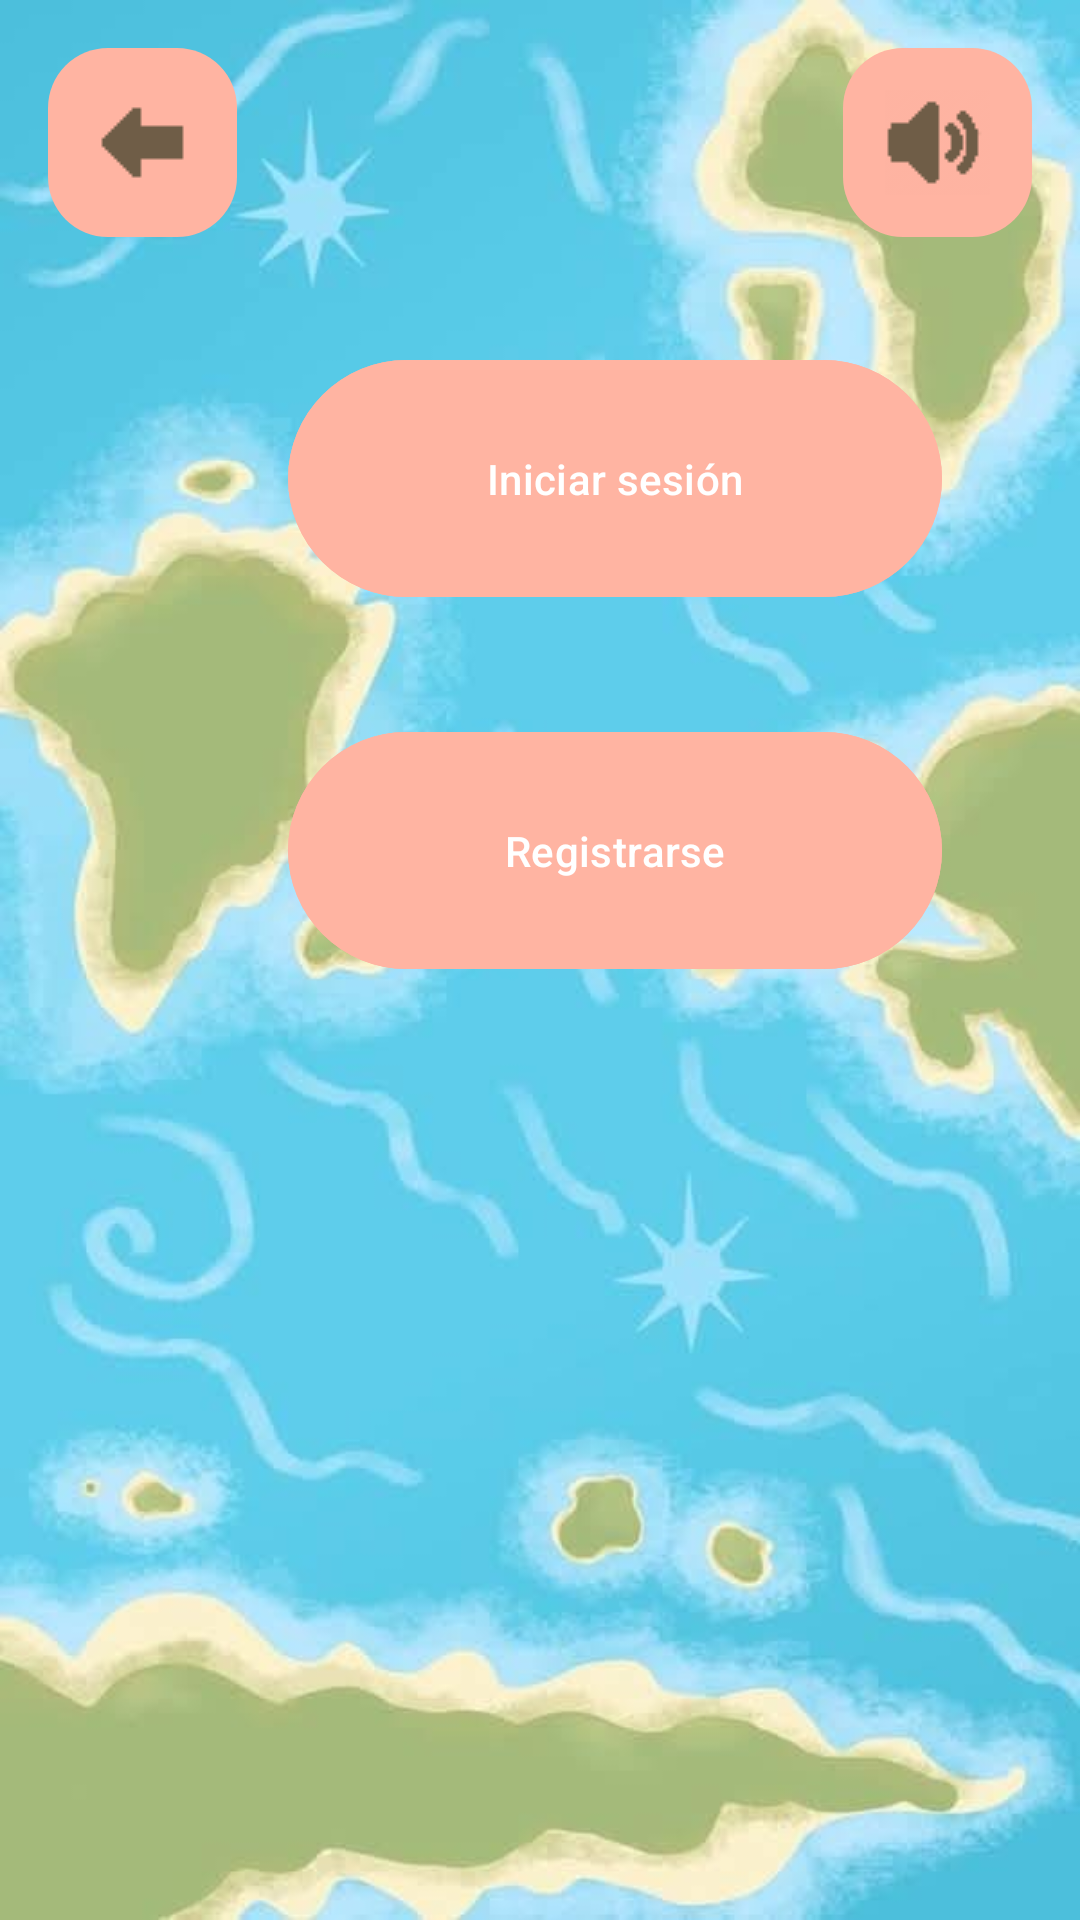

Named icons in this screenshot (1080px x 1920px) and their bounding boxes, (x1, y1, x2, y2):
flecha: (48, 48, 237, 237)
